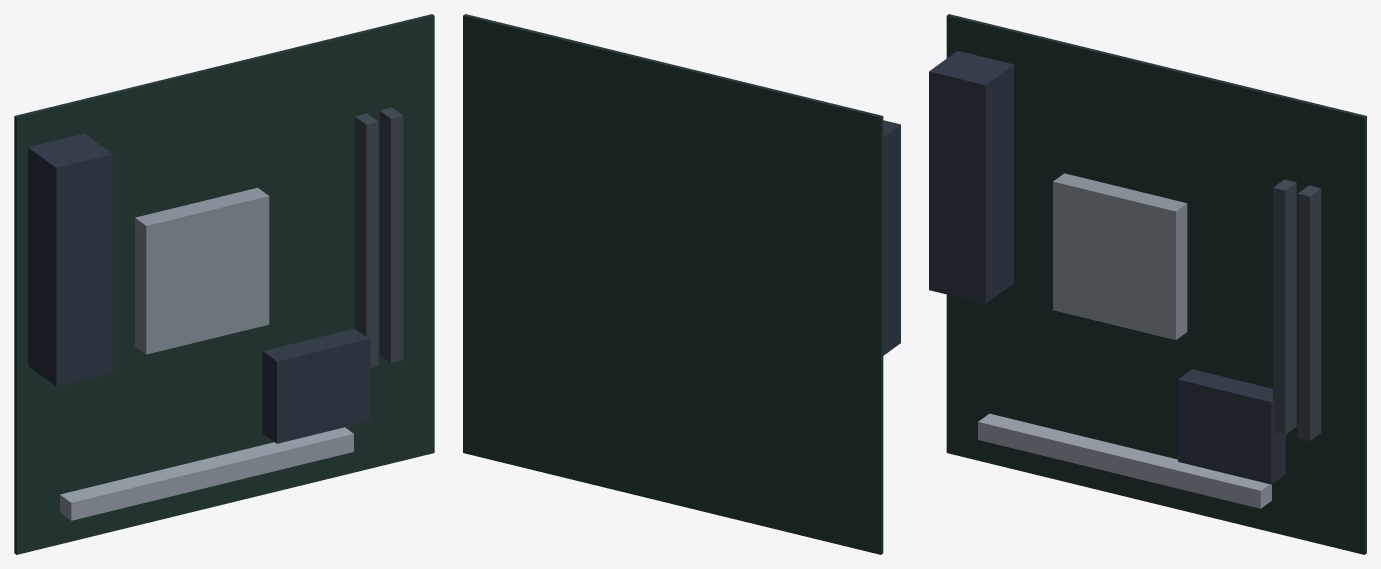
The model's file is silhouette-board-itx.glb.
3 renders of one model, left to right at view 1: azimuth 30°, elevation 25°; view 2: azimuth 150°, elevation 25°; view 3: azimuth 330°, elevation 25°, orthographic.
Visible parts, largest first — view 1: PCB, I/O heatsink, Socket envelope, DIMM slot (×2), Chipset heatsink, PCIe slot; view 2: PCB, I/O heatsink; view 3: PCB, I/O heatsink, Socket envelope, DIMM slot (×2), Chipset heatsink, PCIe slot.
Boxes of the visible parts, x1,y1,x2,y2 form: PCB: [14, 14, 434, 554]; I/O heatsink: [28, 133, 112, 386]; Socket envelope: [135, 187, 269, 354]; DIMM slot (×2): [355, 107, 403, 367]; Chipset heatsink: [262, 328, 370, 443]; PCIe slot: [60, 427, 353, 520]; PCB: [463, 14, 883, 554]; I/O heatsink: [883, 120, 900, 355]; PCB: [946, 14, 1366, 554]; I/O heatsink: [929, 50, 1013, 303]; Socket envelope: [1053, 173, 1187, 339]; DIMM slot (×2): [1273, 179, 1321, 440]; Chipset heatsink: [1178, 369, 1285, 484]; PCIe slot: [978, 413, 1271, 508].
Size of the model in its own units: 0.17 by 0.17 by 0.0218.
